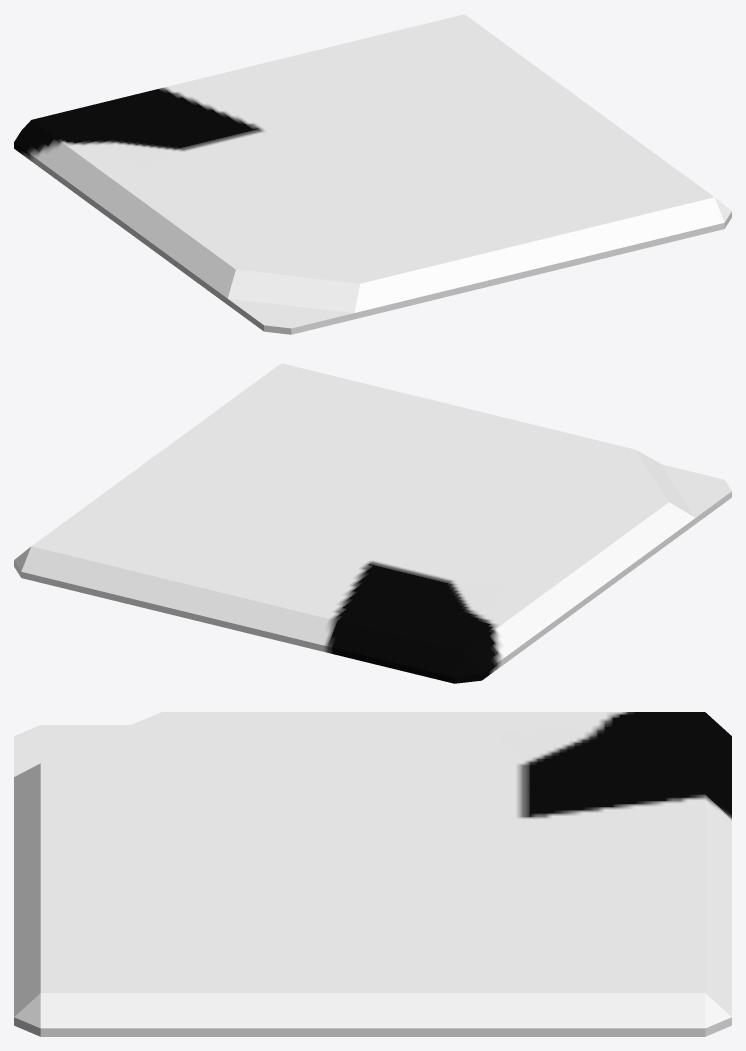
Rendered from barrack_light_ground.fbx.
3 renders of one model, top to bottom at view 1: azimuth 30°, elevation 25°; view 2: azimuth 150°, elevation 25°; view 3: azimuth 270°, elevation 25°, orthographic. The views are drawn at different scales.
Parts seen in each view (by area): view 1: barrack_light_ground; view 2: barrack_light_ground; view 3: barrack_light_ground.
Part boxes in pixels (x1,y1,x2,y2): barrack_light_ground: (14,14,731,334); barrack_light_ground: (14,363,731,683); barrack_light_ground: (14,712,731,1036).
Bounding box in the file's own units: 400 × 20 × 400.
